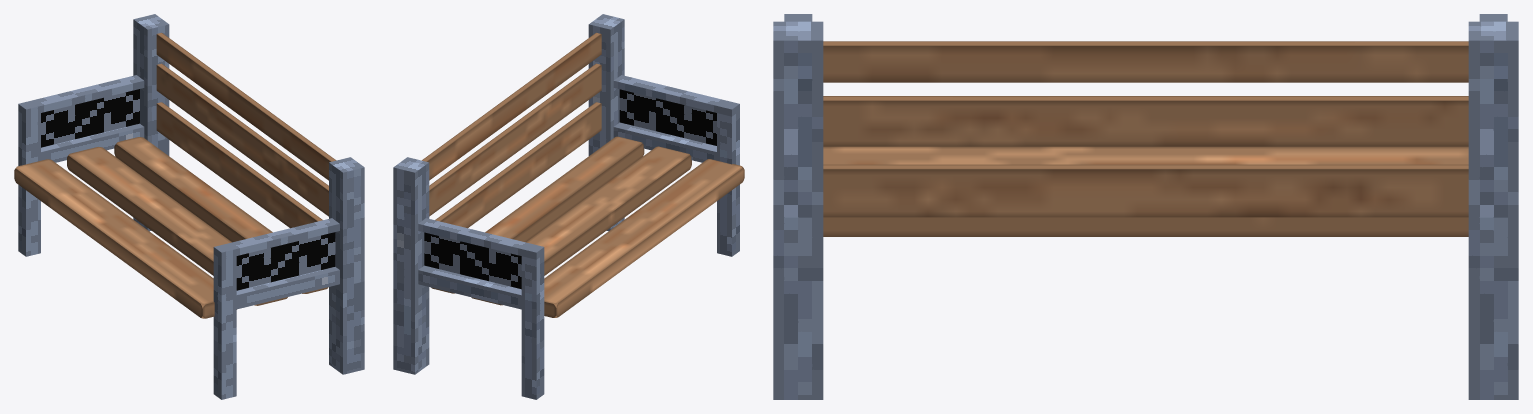
Rendered from Bench.fbx.
3 views of the same model, side by side, from view 1: azimuth 30°, elevation 25°; view 2: azimuth 150°, elevation 25°; view 3: azimuth 270°, elevation 25° (orthographic). The views are drawn at different scales.
Parts seen in each view (by area): view 1: cube, cube_2, cube_3, cube_1, plane_1, plane; view 2: cube, cube_2, cube_1, cube_3, plane, plane_1; view 3: cube_2, cube, cube_1, cube_3.
Boxes of the visible parts, bbox=[...] form: cube: bbox=[14, 137, 328, 318]; cube_2: bbox=[156, 32, 336, 228]; cube_3: bbox=[213, 157, 364, 399]; cube_1: bbox=[18, 14, 169, 256]; plane_1: bbox=[236, 232, 335, 290]; plane: bbox=[41, 89, 139, 147]; cube: bbox=[431, 136, 744, 317]; cube_2: bbox=[422, 32, 601, 228]; cube_1: bbox=[393, 157, 544, 399]; cube_3: bbox=[588, 14, 739, 256]; plane: bbox=[424, 232, 521, 289]; plane_1: bbox=[619, 89, 716, 145]; cube_2: bbox=[823, 41, 1468, 217]; cube: bbox=[823, 146, 1468, 236]; cube_1: bbox=[1468, 14, 1518, 399]; cube_3: bbox=[773, 14, 823, 399].
Size of the model in its own units: 69.84 by 88.75 by 167.
Materials: 4 (4 with a texture image).
